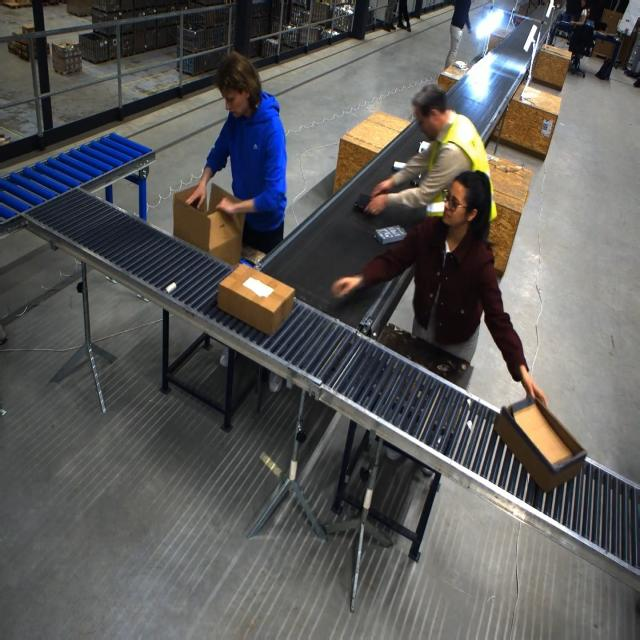box: (492, 396, 585, 494), (172, 182, 245, 267), (217, 265, 292, 335)
product: (373, 225, 405, 245), (355, 194, 373, 213), (393, 161, 407, 171)
